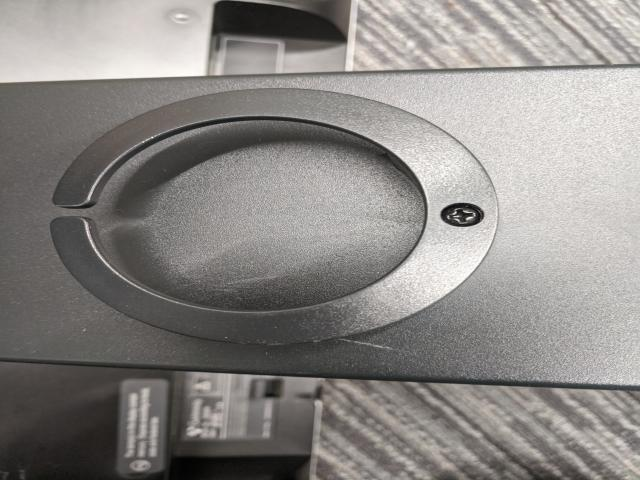CRS: (442, 202, 483, 227)
